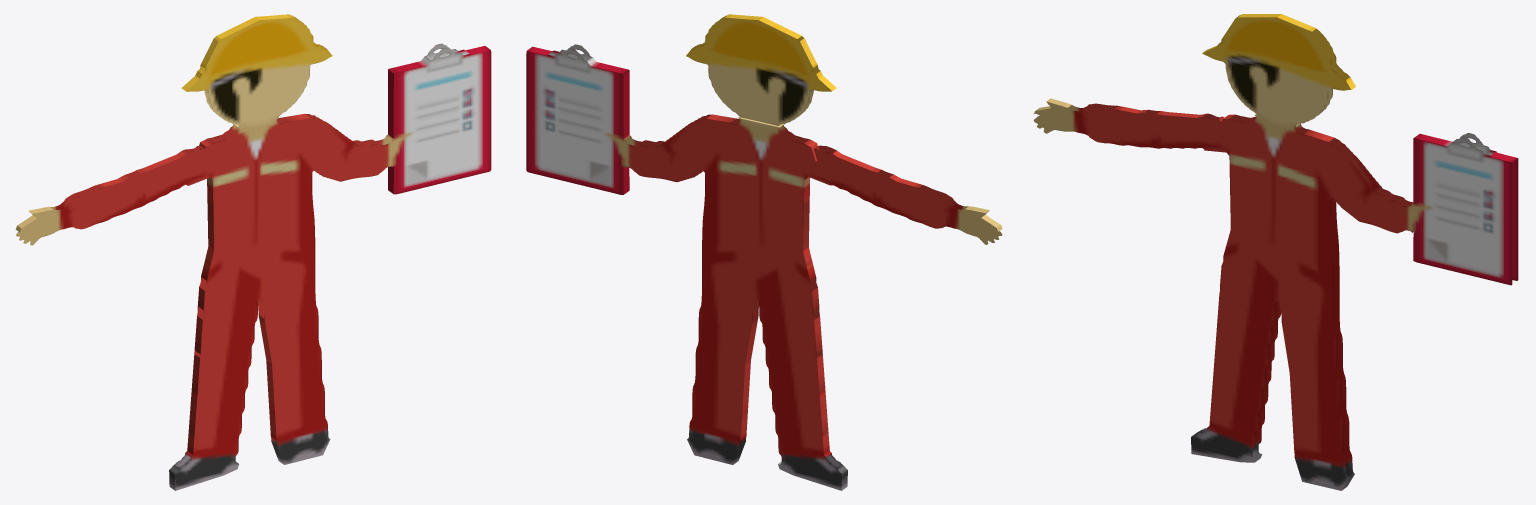
File: man.FBX
The picture shows the model from 3 angles, left to right: view 1: azimuth 30°, elevation 25°; view 2: azimuth 150°, elevation 25°; view 3: azimuth 330°, elevation 25°; orthographic projection.
Parts seen in each view (by area): view 1: Body, Head, Arm; view 2: Body, Head, Arm; view 3: Body, Head, Arm.
Part boxes in pixels (x1,y1,x2,y2): Body: (169,43,491,490); Head: (181,14,332,126); Arm: (15,146,209,245); Body: (526,44,847,490); Head: (686,14,836,125); Arm: (809,145,1002,244); Body: (1191,114,1518,490); Head: (1202,14,1355,126); Arm: (1033,98,1226,152).
Bounding box in the file's own units: 35.51 × 32.16 × 0.7536.
1 material, 1 textured.
